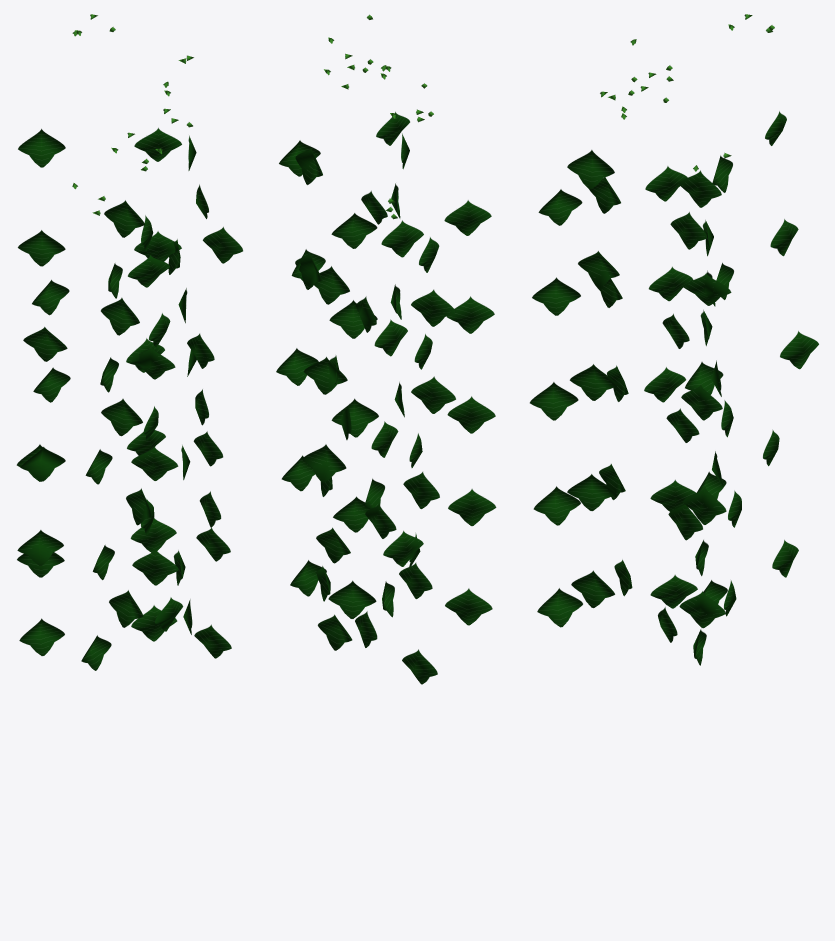
Rendered from Herb_JapaneseKnotweed.glb.
The picture shows the model from 3 angles, left to right: view 1: azimuth 30°, elevation 25°; view 2: azimuth 150°, elevation 25°; view 3: azimuth 270°, elevation 25°; orthographic projection. The views are drawn at different scales.
Visible parts, largest first — view 1: Herb_JapaneseKnotweed; view 2: Herb_JapaneseKnotweed; view 3: Herb_JapaneseKnotweed.
Part boxes in pixels (bbox=[...]): Herb_JapaneseKnotweed: bbox=[16, 14, 242, 670]; Herb_JapaneseKnotweed: bbox=[276, 14, 496, 684]; Herb_JapaneseKnotweed: bbox=[530, 14, 818, 665].
Bounding box in the file's own units: 0.7472 × 3.57 × 1.08.
1 material, 1 textured.
